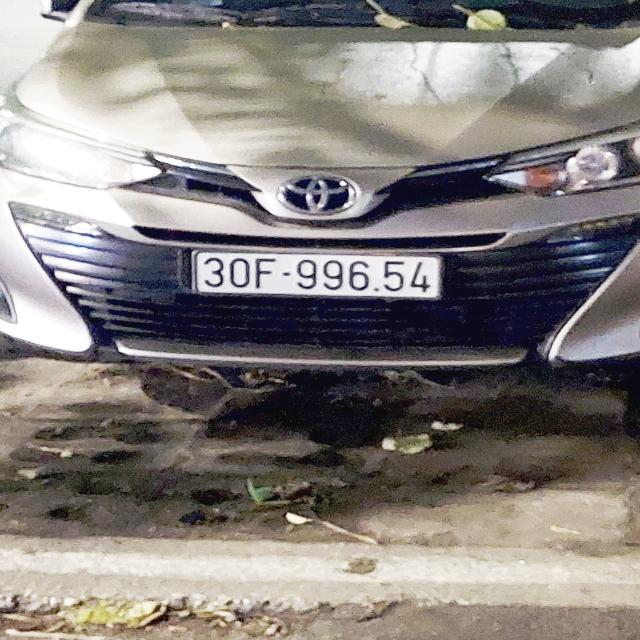license_plate: (185, 250, 448, 302)
